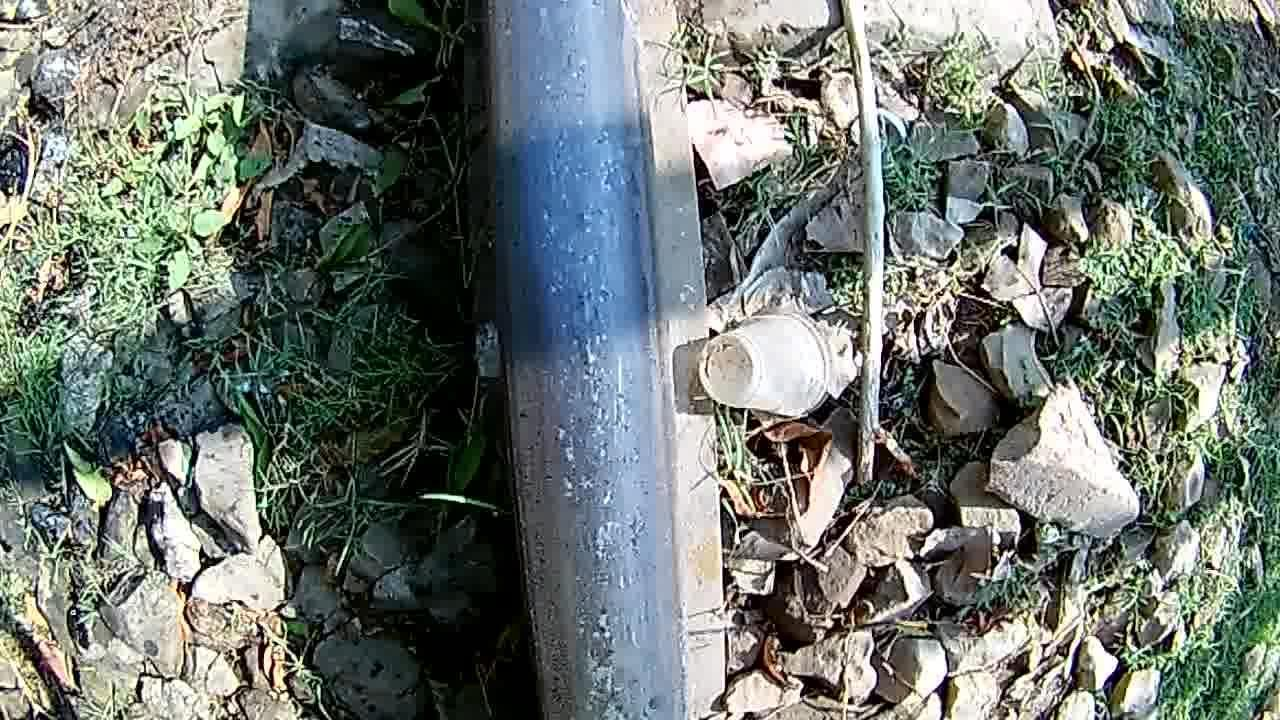crack: (482, 0, 688, 720)
